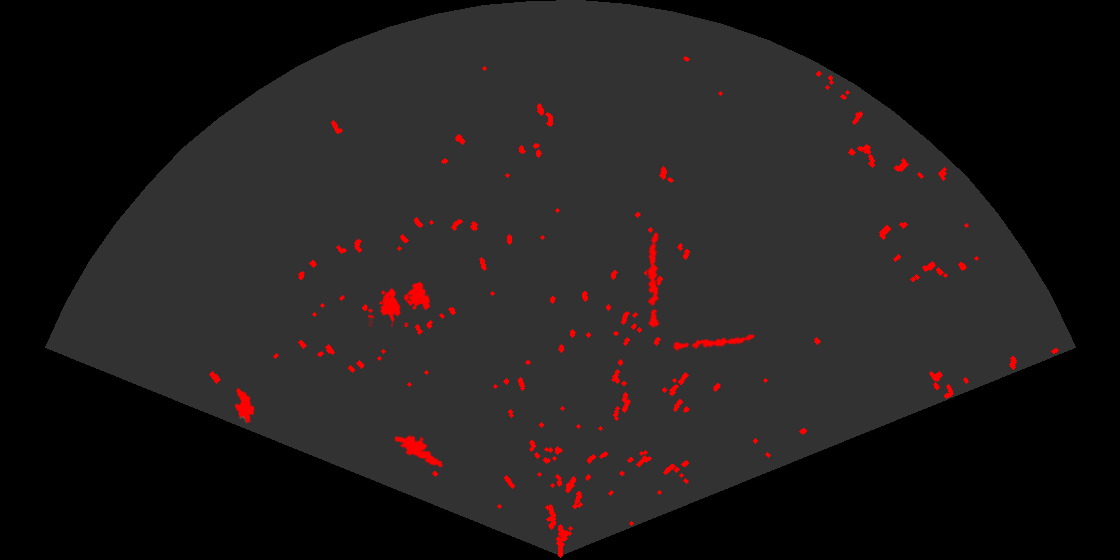AUV: (233, 386, 256, 425)
cage: (368, 280, 432, 327)
chain: (671, 333, 756, 353), (646, 230, 660, 328)
frogman: (395, 433, 446, 469)
